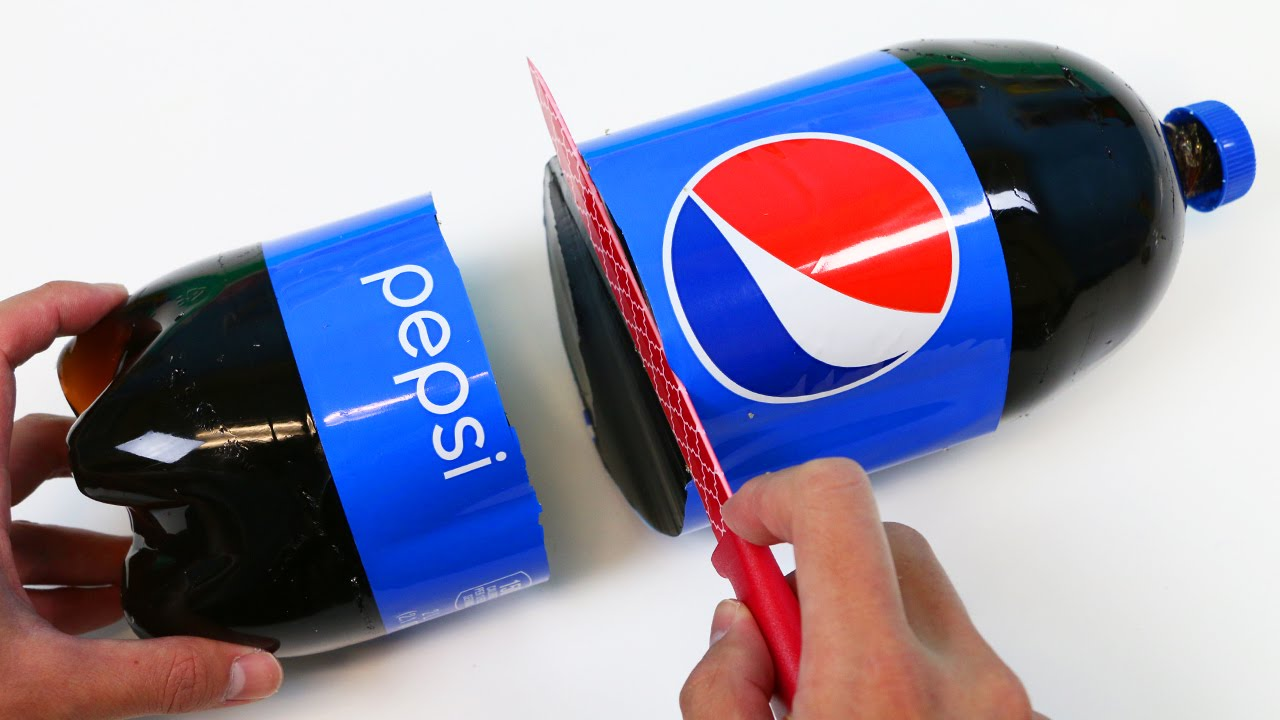pepsi: (659, 129, 959, 403), (664, 129, 959, 403), (664, 129, 944, 403), (664, 148, 944, 403)
